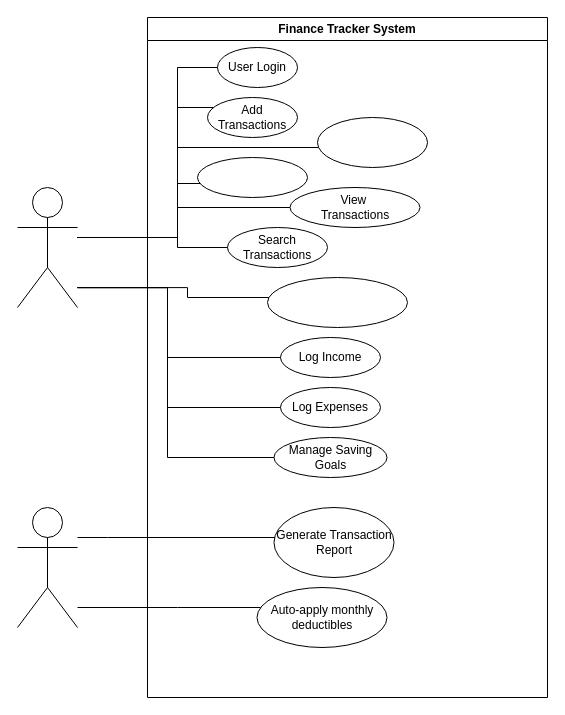
The diagram is 565 pixels wide and 715 high, and some of its shapes have lost their labels. Each missing label, with the box of its shape:
Delete Transactions: (196, 156, 308, 198)
Edit Transactions: (316, 116, 428, 168)
Export Transactions (CSV/PDF ): (266, 276, 408, 328)
System: (16, 506, 78, 628)
User: (16, 186, 78, 308)
